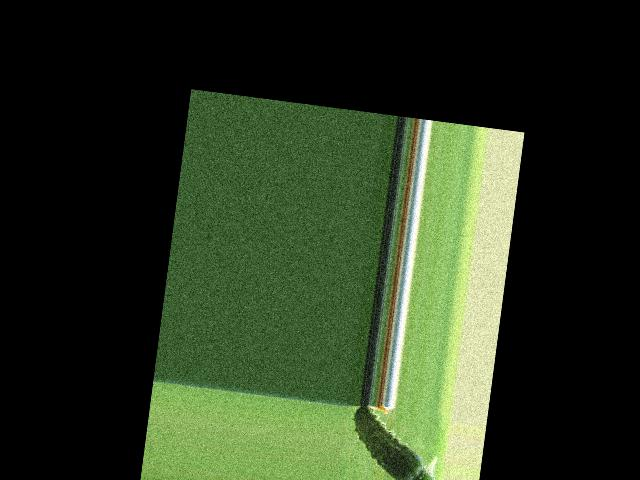cucumber: (345, 404, 429, 480)
